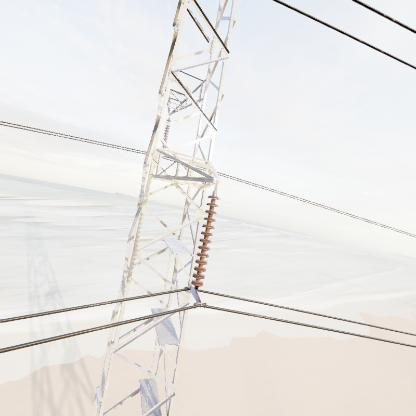insulator: (188, 190, 220, 292)
